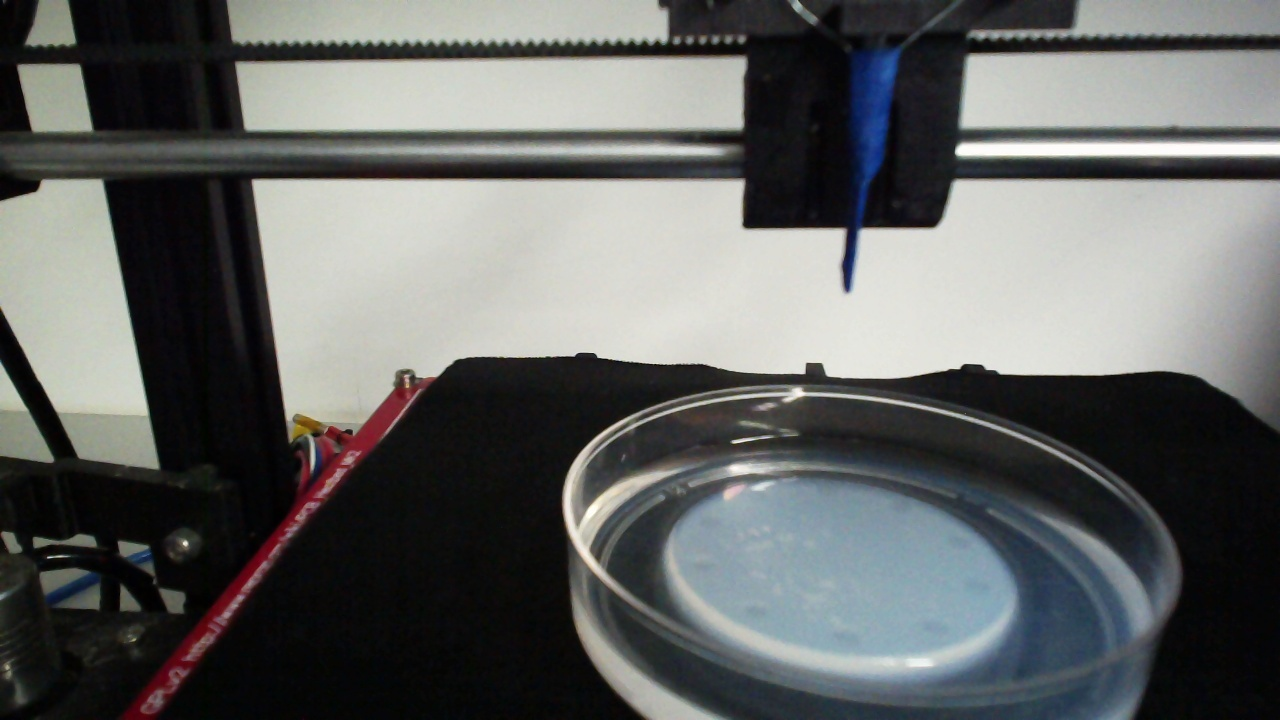groove: (830, 625, 862, 645), (919, 617, 951, 637), (812, 480, 842, 499), (889, 495, 914, 517), (742, 600, 770, 619), (960, 577, 988, 595), (948, 533, 973, 552), (692, 557, 716, 575), (698, 513, 723, 530)
needle: (837, 51, 899, 292)
